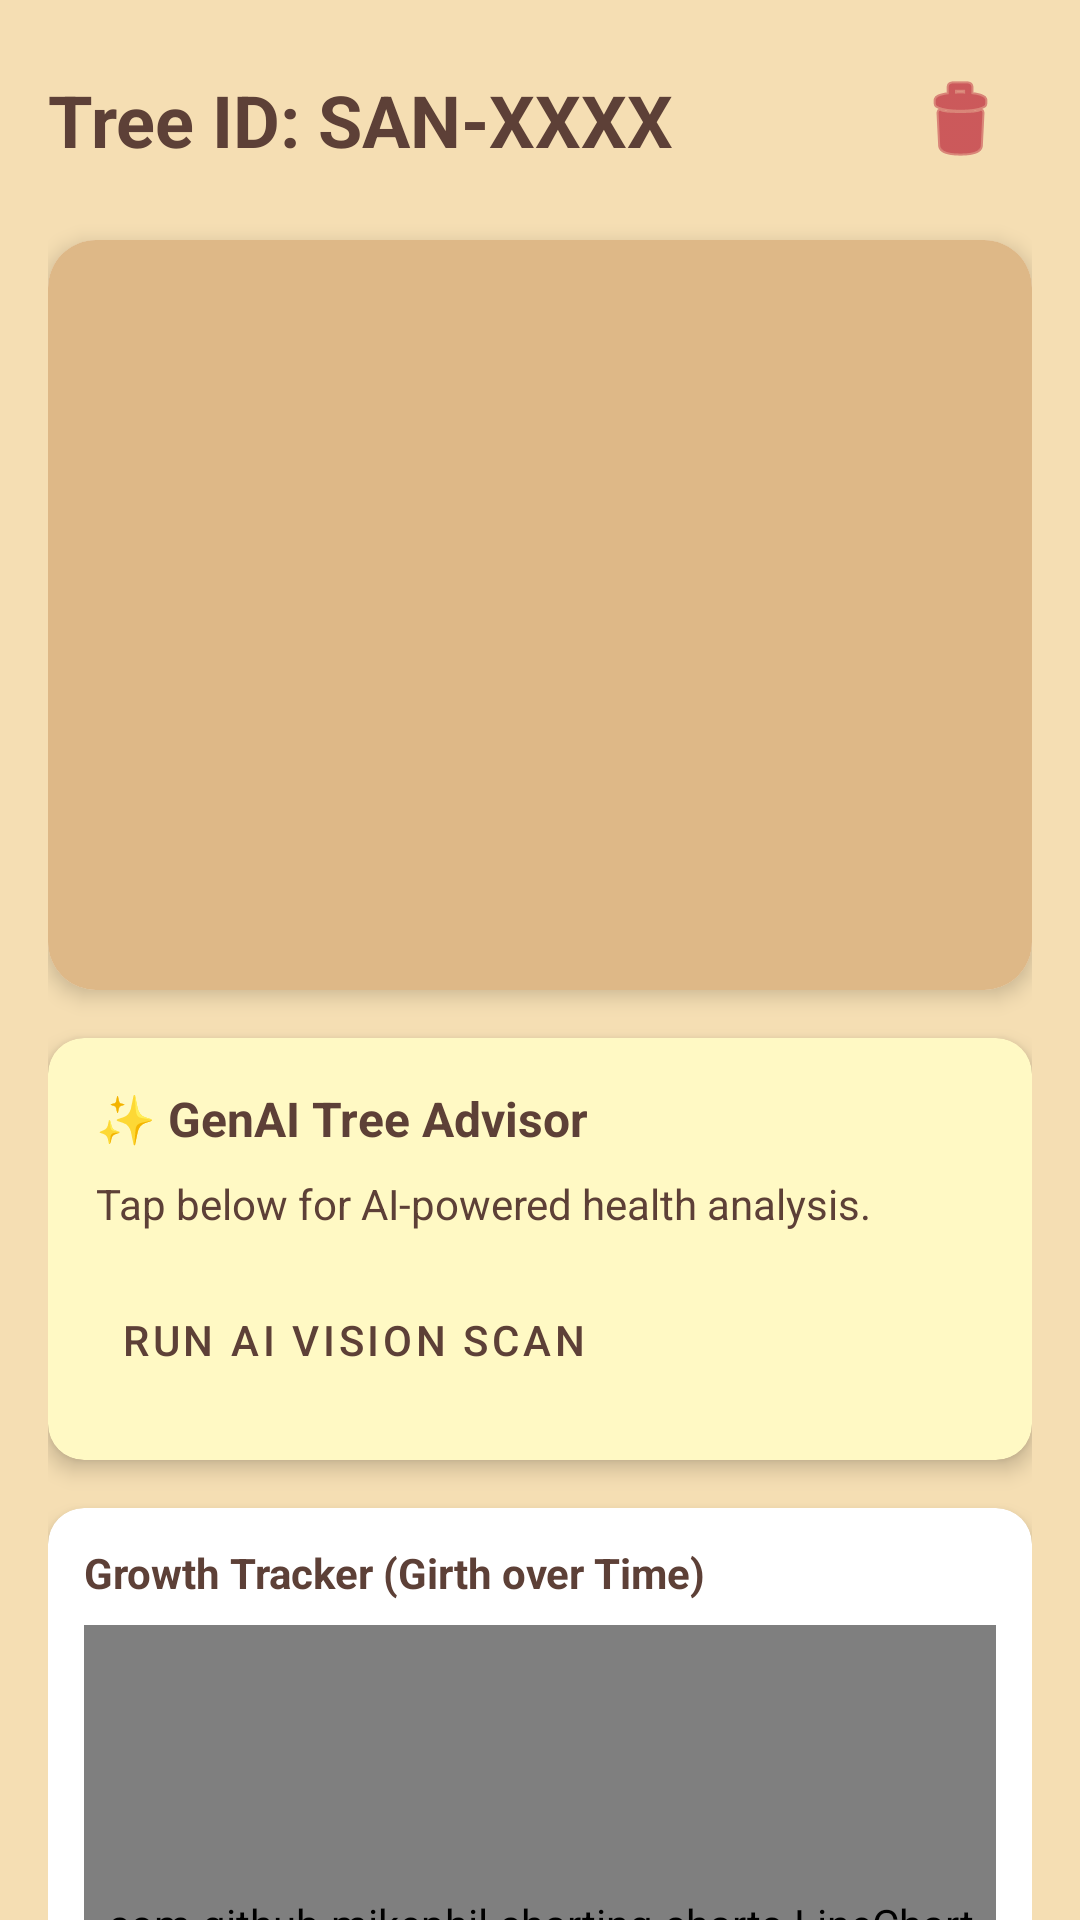

Icons on this 1080 x 1920 Android screen, each with its box as detection(x1, y1, x2, y2):
Delete Tree: detection(933, 81, 988, 156)
